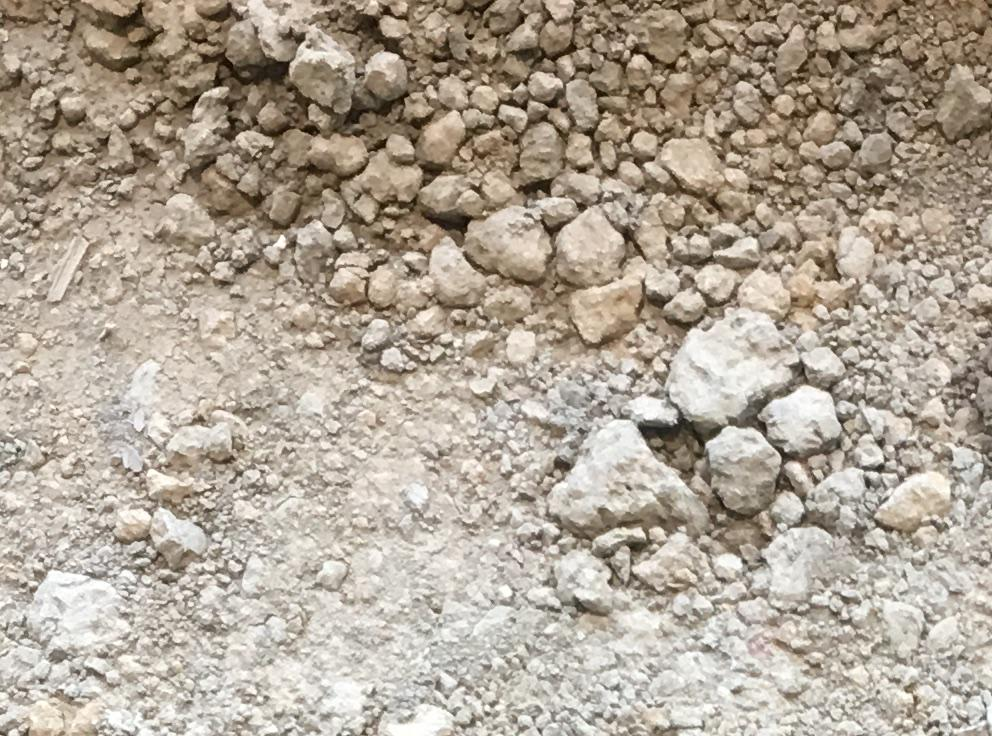block: (544, 423, 709, 532), (655, 308, 795, 429), (705, 424, 782, 519), (554, 205, 630, 286), (467, 206, 545, 280), (283, 29, 353, 110)
